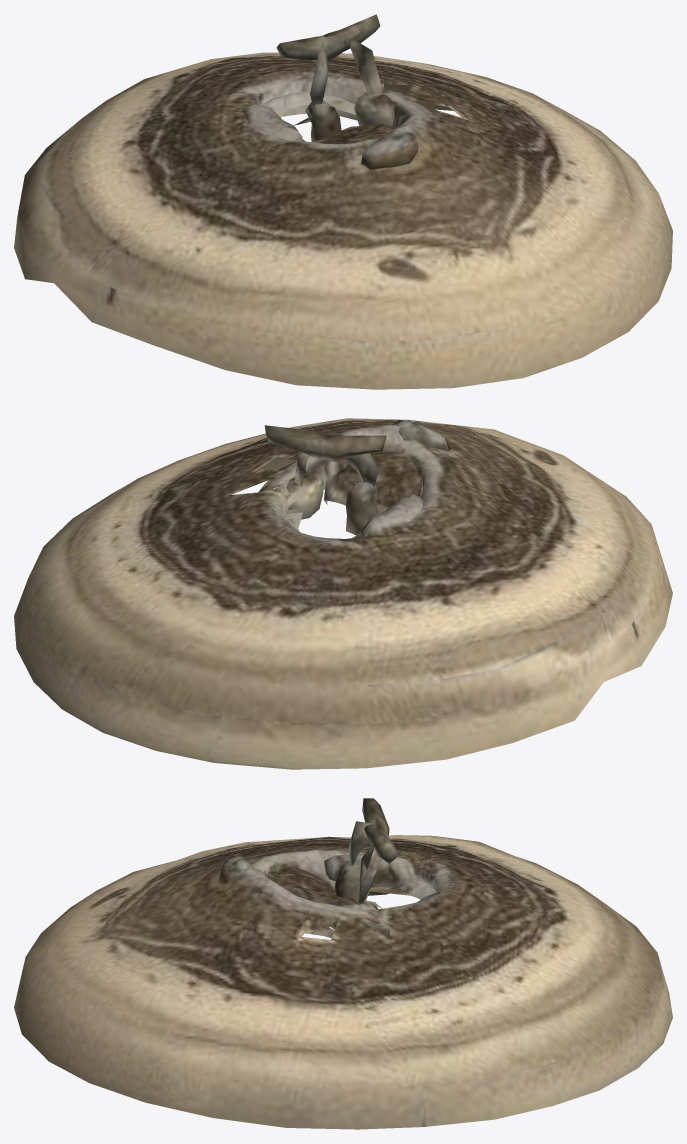
File: av_ninho.glb
The picture shows the model from 3 angles, top to bottom: view 1: azimuth 30°, elevation 25°; view 2: azimuth 150°, elevation 25°; view 3: azimuth 270°, elevation 25°; orthographic projection. The views are drawn at different scales.
Visible parts, largest first — view 1: Mesh_0.001; view 2: Mesh_0.001; view 3: Mesh_0.001.
Boxes of the visible parts, bbox=[...] form: Mesh_0.001: bbox=[14, 14, 672, 389]; Mesh_0.001: bbox=[14, 418, 672, 769]; Mesh_0.001: bbox=[14, 798, 672, 1129].
Bounding box in the file's own units: 0.1478 × 0.0531 × 0.166.
1 material, 1 textured.
